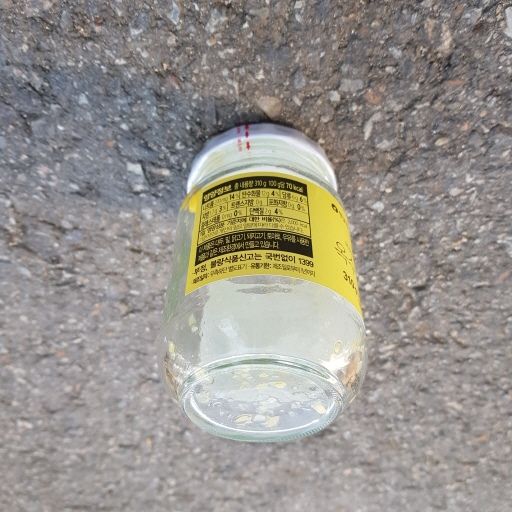Glass_5: (153, 118, 369, 444)
